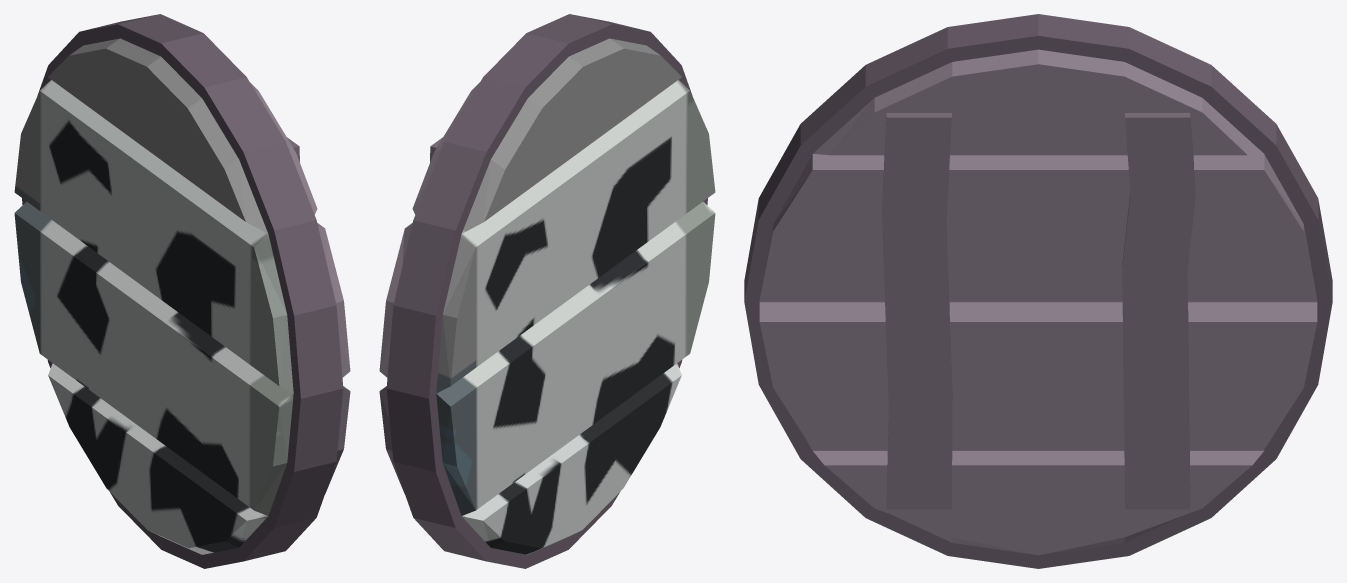
File: SM_Prop_Cart_Wheel_01.fbx
The picture shows the model from 3 angles, left to right: view 1: azimuth 30°, elevation 25°; view 2: azimuth 150°, elevation 25°; view 3: azimuth 270°, elevation 25°; orthographic projection. The views are drawn at different scales.
Parts seen in each view (by area): view 1: SM_Prop_Cart_Wheel_01; view 2: SM_Prop_Cart_Wheel_01; view 3: SM_Prop_Cart_Wheel_01.
Boxes of the visible parts, bbox=[...] form: SM_Prop_Cart_Wheel_01: bbox=[14, 14, 350, 568]; SM_Prop_Cart_Wheel_01: bbox=[379, 14, 715, 568]; SM_Prop_Cart_Wheel_01: bbox=[744, 14, 1332, 568].
Size of the model in its own units: 0.1595 by 0.957 by 0.957.
1 material, 1 textured.
